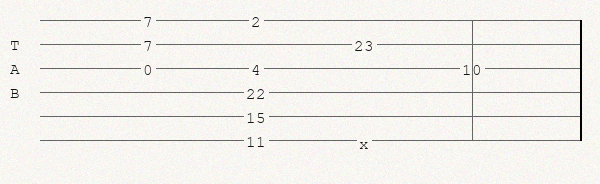0: (143, 61, 157, 75)
10: (462, 61, 486, 75)
11: (246, 133, 270, 147)
15: (246, 109, 270, 123)
2: (251, 13, 265, 27)
22: (246, 85, 270, 99)
23: (354, 37, 378, 51)
4: (251, 61, 265, 75)
7: (143, 37, 157, 51), (143, 13, 157, 27)
x: (359, 135, 373, 146)
